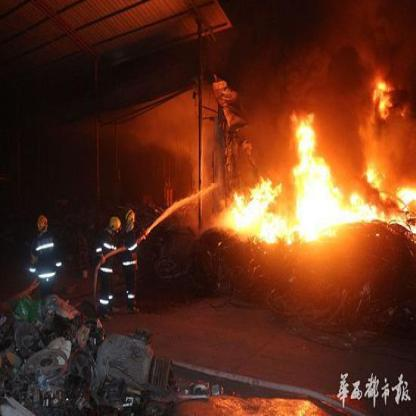fire: (200, 83, 413, 251)
smoke: (234, 2, 407, 115)
